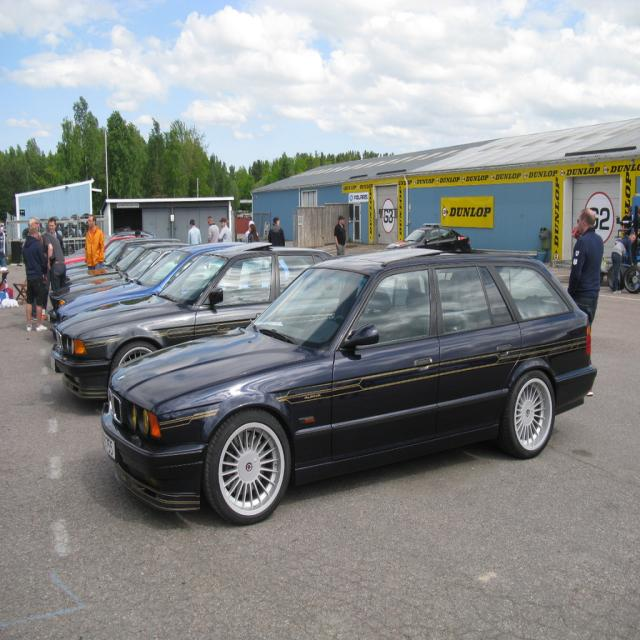car: (89, 252, 590, 522)
